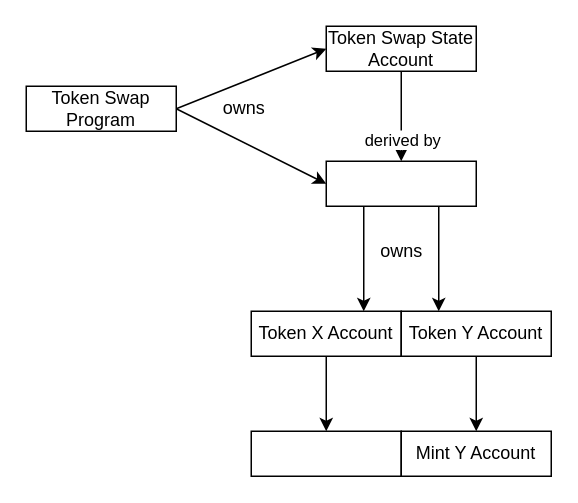
Some shapes in this 578 by 503 pixel diagram are drawn without their labels. The shapes that lost their labels are listed below. From the top down, each one's box as (x1, y1, x2, y2) in pixels, then its label:
(325, 160, 476, 206): Swap Pool Authority
(250, 430, 401, 476): Mint X Account
